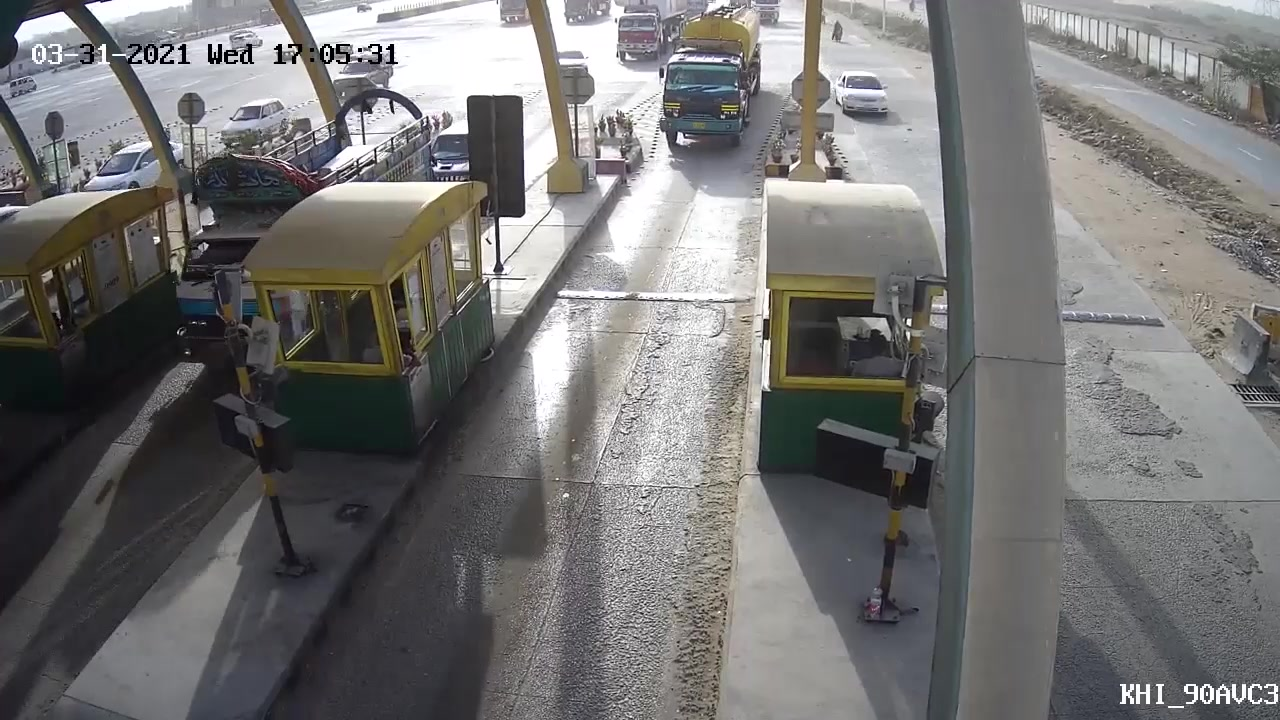F5: (648, 7, 765, 153)
